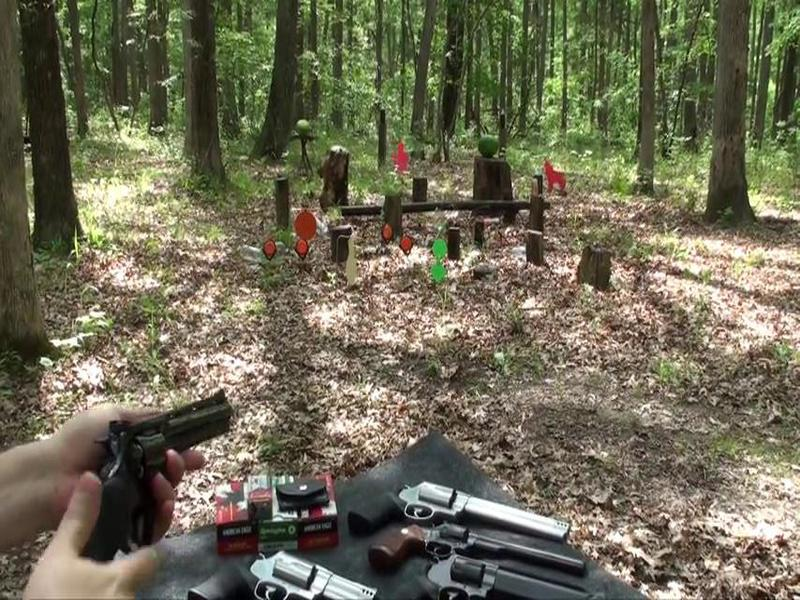Revolver: (67, 386, 253, 572)
